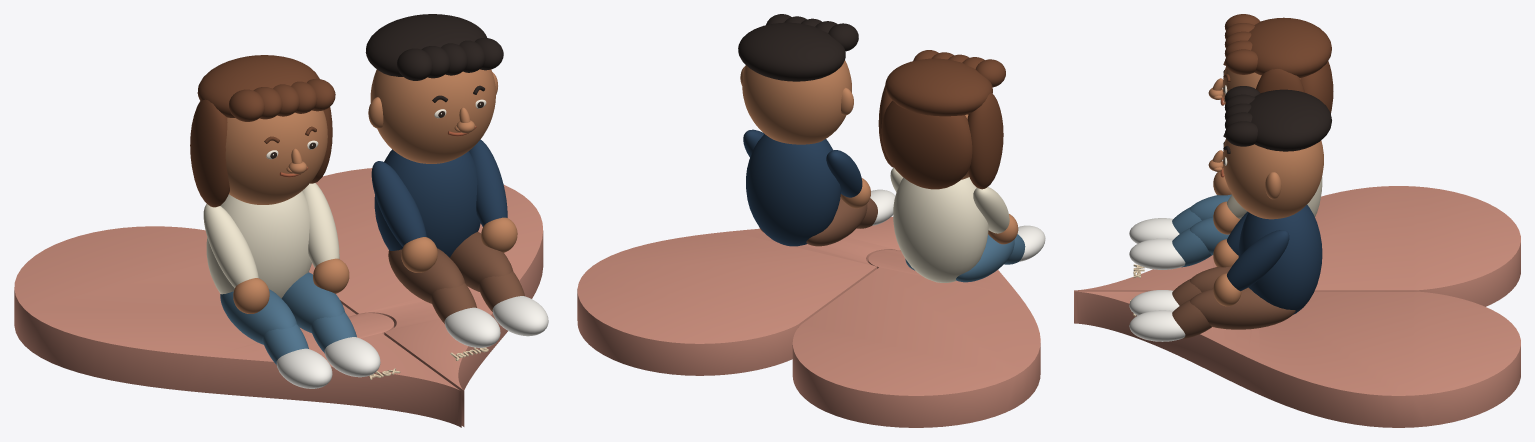
The picture shows the model from 3 angles, left to right: view 1: azimuth 30°, elevation 25°; view 2: azimuth 150°, elevation 25°; view 3: azimuth 270°, elevation 25°; orthographic projection. The views are drawn at different scales.
Parts seen in each view (by area): view 1: HEART_BASE_LEFT, HEART_BASE_RIGHT, HEAD_RIGHT, HEAD_LEFT, BODY_RIGHT, BODY_LEFT, HAIR_CAP_right, HAIR_CAP_left, HAIR_SIDE_left_-1, ARM_right_0, ARM_left_0, ARM_right_1 (+27 smaller); view 2: HEART_BASE_LEFT, HEART_BASE_RIGHT, BODY_RIGHT, BODY_LEFT, HEAD_RIGHT, HAIR_BACK_left, HAIR_CAP_right, HAIR_CAP_left, HAIR_SIDE_left_-1, THIGH_right_0, THIGH_left_0, ARM_right_0 (+5 smaller); view 3: HEART_BASE_RIGHT, HEART_BASE_LEFT, HEAD_RIGHT, BODY_RIGHT, HAIR_CAP_right, HAIR_CAP_left, THIGH_right_1, ARM_right_1, SHOE_right_1, SHOE_left_1, HAIR_BACK_left, SHOE_right_0 (+15 smaller).
Part boxes in pixels (x1=…): HEART_BASE_LEFT: x1=14, y1=226, x2=461, y2=427; HEART_BASE_RIGHT: x1=309, y1=168, x2=543, y2=426; HEAD_RIGHT: x1=370, y1=69, x2=495, y2=163; HEAD_LEFT: x1=225, y1=110, x2=327, y2=204; BODY_RIGHT: x1=374, y1=149, x2=480, y2=257; BODY_LEFT: x1=206, y1=191, x2=311, y2=298; HAIR_CAP_right: x1=365, y1=14, x2=486, y2=76; HAIR_CAP_left: x1=197, y1=55, x2=318, y2=117; HAIR_SIDE_left_-1: x1=190, y1=99, x2=229, y2=207; ARM_right_0: x1=371, y1=161, x2=426, y2=246; ARM_left_0: x1=203, y1=204, x2=258, y2=287; ARM_right_1: x1=469, y1=139, x2=507, y2=226; HEART_BASE_LEFT: x1=792, y1=250, x2=1040, y2=427; HEART_BASE_RIGHT: x1=577, y1=216, x2=900, y2=375; BODY_RIGHT: x1=746, y1=134, x2=841, y2=246; BODY_LEFT: x1=893, y1=177, x2=988, y2=282; HEAD_RIGHT: x1=742, y1=60, x2=851, y2=144; HAIR_BACK_left: x1=881, y1=100, x2=972, y2=189; HAIR_CAP_right: x1=738, y1=22, x2=845, y2=81; HAIR_CAP_left: x1=885, y1=58, x2=992, y2=116; HAIR_SIDE_left_-1: x1=967, y1=93, x2=1003, y2=189; THIGH_right_0: x1=806, y1=198, x2=867, y2=246; THIGH_left_0: x1=956, y1=234, x2=1014, y2=282; ARM_right_0: x1=826, y1=150, x2=862, y2=197; HEART_BASE_RIGHT: x1=1074, y1=291, x2=1520, y2=427; HEART_BASE_LEFT: x1=1074, y1=186, x2=1520, y2=306; HEAD_RIGHT: x1=1222, y1=139, x2=1323, y2=219; BODY_RIGHT: x1=1238, y1=204, x2=1322, y2=314; HAIR_CAP_right: x1=1248, y1=89, x2=1331, y2=151; HAIR_CAP_left: x1=1248, y1=17, x2=1331, y2=78; THIGH_right_1: x1=1190, y1=287, x2=1295, y2=329; ARM_right_1: x1=1227, y1=230, x2=1289, y2=291; SHOE_right_1: x1=1129, y1=310, x2=1185, y2=341; SHOE_left_1: x1=1129, y1=238, x2=1185, y2=269; HAIR_BACK_left: x1=1300, y1=61, x2=1333, y2=113; SHOE_right_0: x1=1129, y1=290, x2=1179, y2=315.
Bounding box in the file's own units: 4.5 × 2.59 × 4.05.
